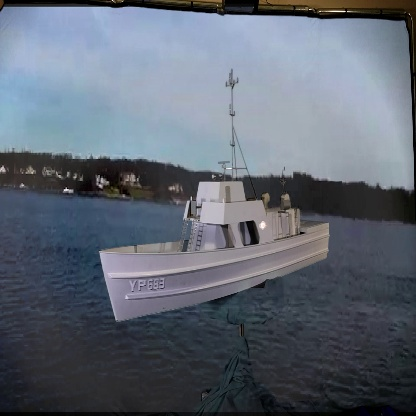YP689: (95, 70, 341, 324)
